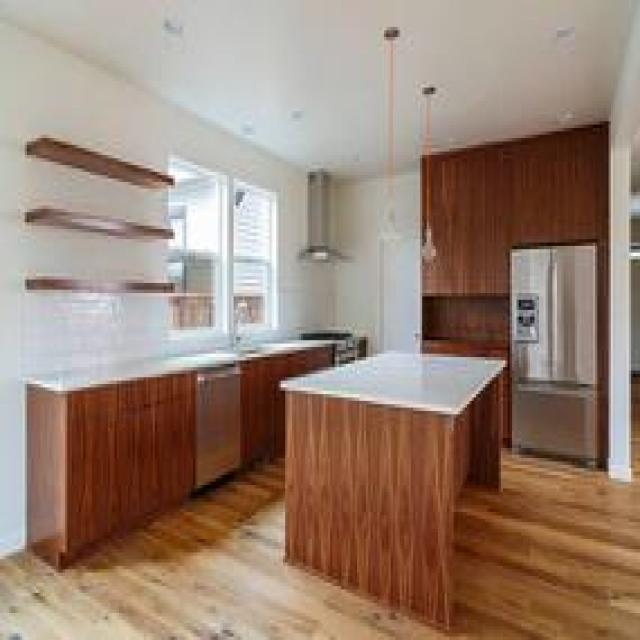dishwasher: (195, 360, 238, 482)
